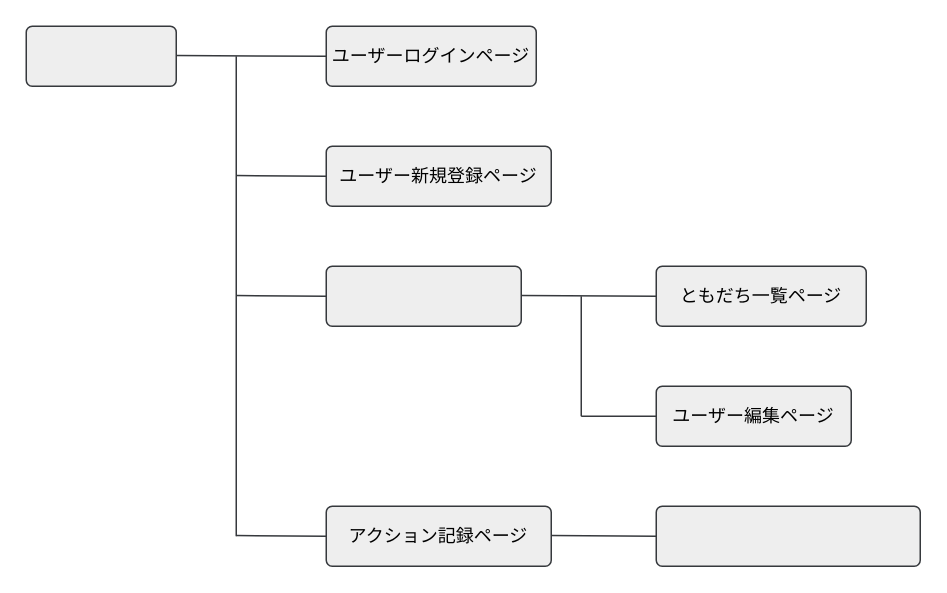
This 947x593 diagram has some shape labels left out. The shapes that lost their labels are listed below. From the top down, each one's box as (x1, y1, x2, y2) in pixels, then its label:
(25, 25, 176, 86): 一覧ページ
(325, 265, 521, 326): ユーザーマイページ
(655, 505, 920, 566): アクションリクエストページ
